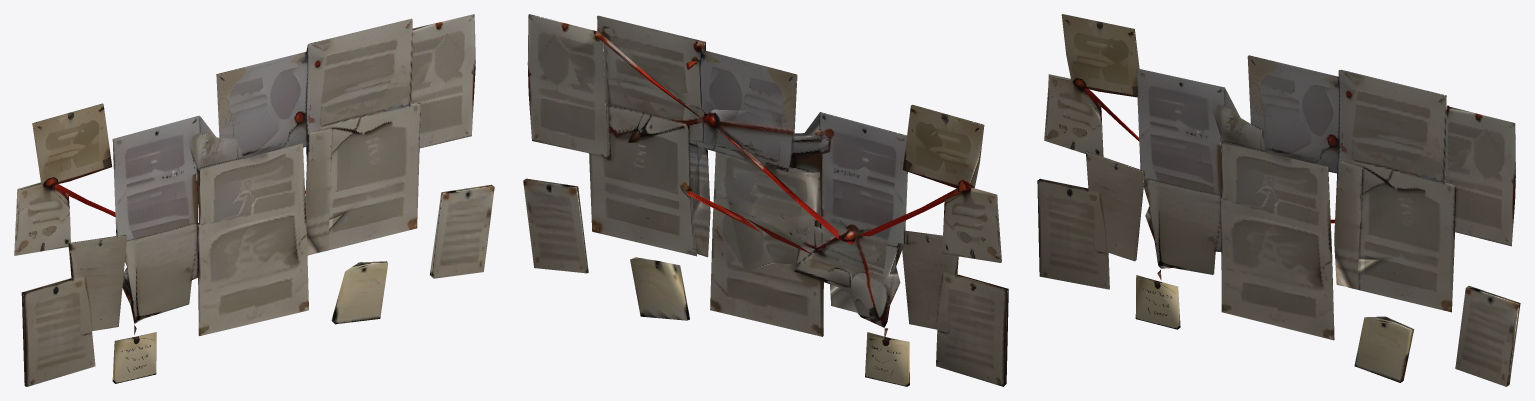
Rendered from tripo_convert_727ef6ba-7429-477f-866a-1d0a2d1d138e.fbx.
The picture shows the model from 3 angles, left to right: view 1: azimuth 30°, elevation 25°; view 2: azimuth 150°, elevation 25°; view 3: azimuth 330°, elevation 25°; orthographic projection. The views are drawn at different scales.
Parts seen in each view (by area): view 1: tripo_node_727ef6ba; view 2: tripo_node_727ef6ba; view 3: tripo_node_727ef6ba.
Boxes of the visible parts, x1=… form: tripo_node_727ef6ba: x1=14, y1=14, x2=494, y2=386; tripo_node_727ef6ba: x1=523, y1=14, x2=1008, y2=386; tripo_node_727ef6ba: x1=1037, y1=14, x2=1520, y2=386.
Bounding box in the file's own units: 0.9998 × 0.5866 × 0.0542.
Materials: 1 (1 with a texture image).
